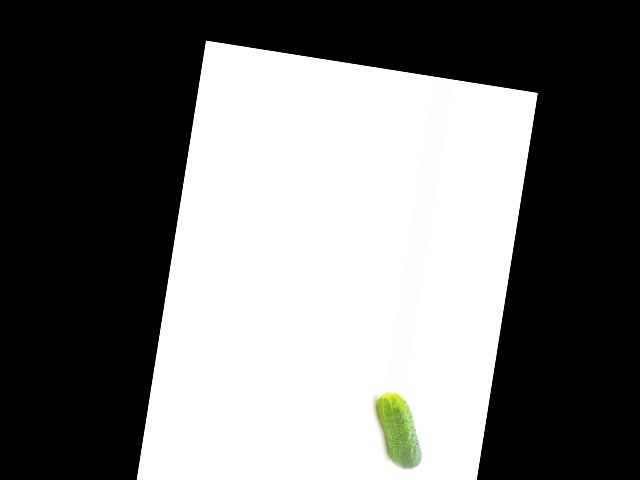cucumber: (367, 390, 430, 471)
